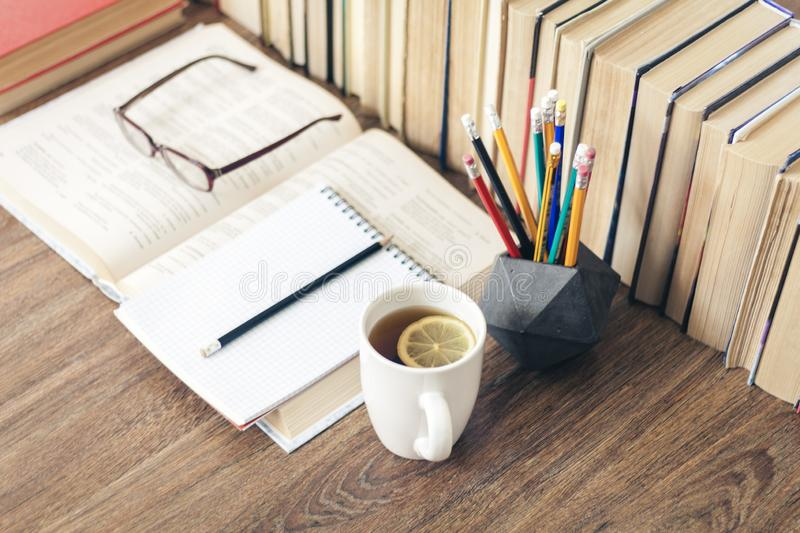Open Book: (7, 18, 517, 427)
